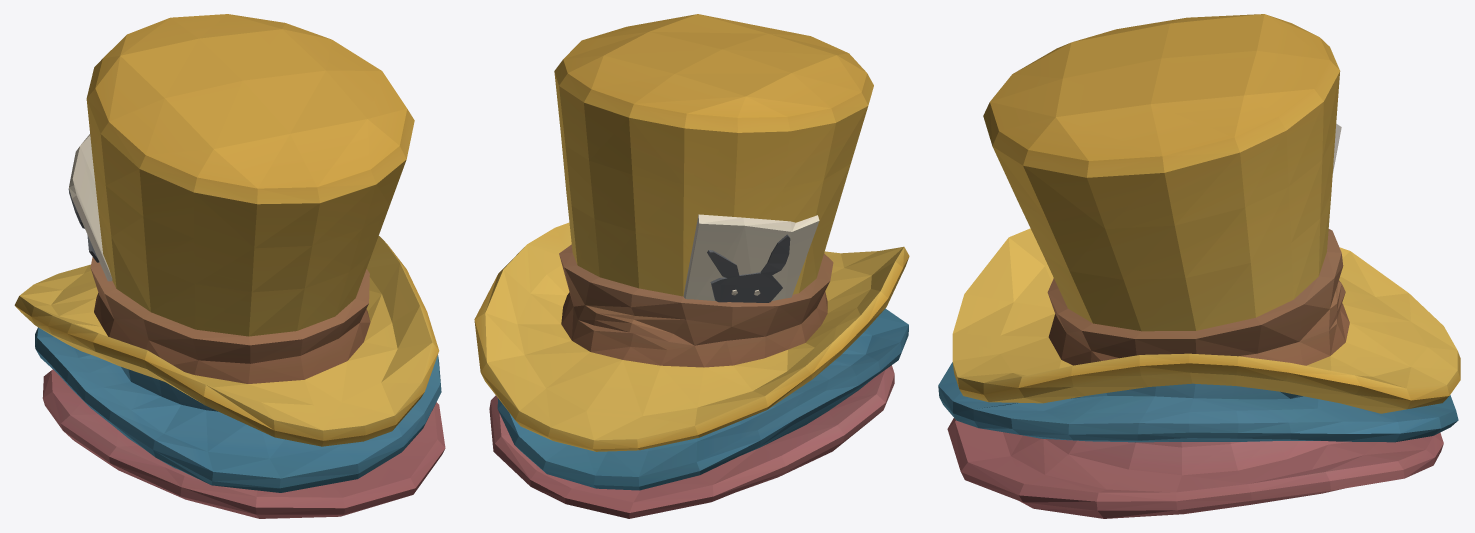
The model's file is CharSkyKid_Hat_StackedHat.glb.
The picture shows the model from 3 angles, left to right: view 1: azimuth 30°, elevation 25°; view 2: azimuth 150°, elevation 25°; view 3: azimuth 270°, elevation 25°; orthographic projection. The views are drawn at different scales.
Parts seen in each view (by area): view 1: CharSkyKid_Hat_StackedHat; view 2: CharSkyKid_Hat_StackedHat; view 3: CharSkyKid_Hat_StackedHat.
Boxes of the visible parts, x1,y1,x2,y2 form: CharSkyKid_Hat_StackedHat: [14, 14, 445, 518]; CharSkyKid_Hat_StackedHat: [474, 14, 909, 518]; CharSkyKid_Hat_StackedHat: [938, 14, 1460, 518].
Bounding box in the file's own units: 3.4 × 3.8 × 4.44.
1 material, 1 textured.
